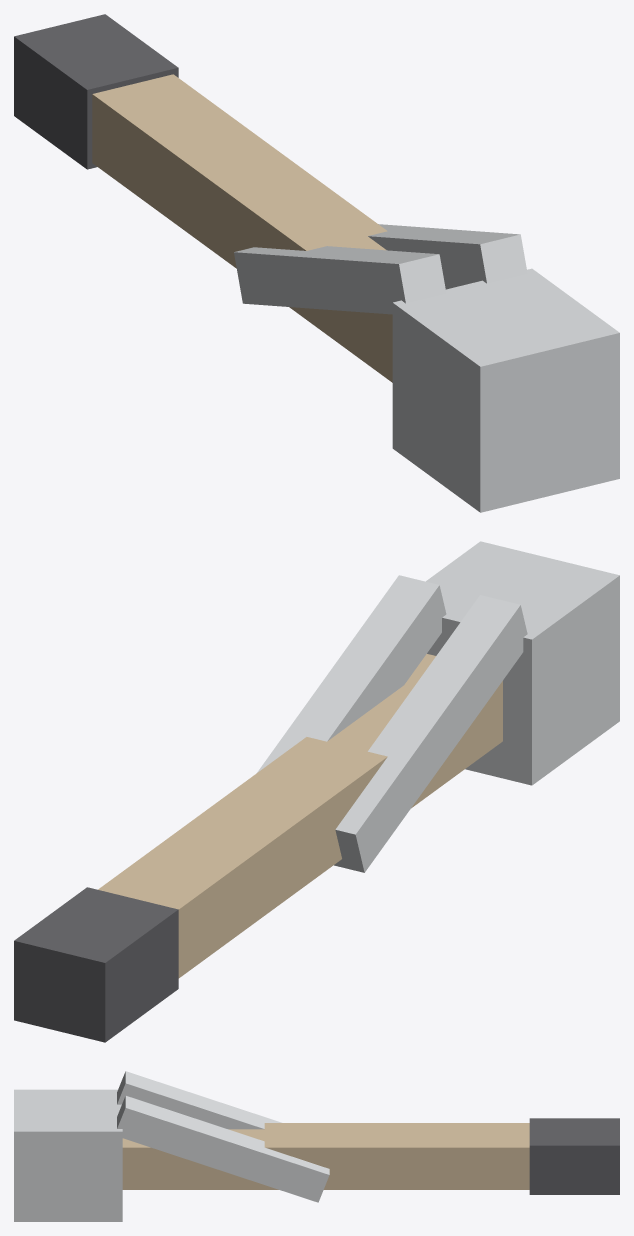
The model's file is claw-hammer.gltf.
3 views of the same model, one above another, from view 1: azimuth 30°, elevation 25°; view 2: azimuth 150°, elevation 25°; view 3: azimuth 270°, elevation 25° (orthographic). The views are drawn at different scales.
Visible parts, largest first — view 1: HeadPoll, Handle, GripEnd, ClawProngA, ClawProngB; view 2: Handle, HeadPoll, GripEnd, ClawProngA, ClawProngB; view 3: Handle, HeadPoll, ClawProngB, GripEnd, ClawProngA.
Part boxes in pixels (box(x1,y1,x2,y2)): HeadPoll: box(392, 268, 619, 512); Handle: box(92, 74, 392, 382); GripEnd: box(14, 14, 178, 169); ClawProngA: box(234, 246, 446, 314); ClawProngB: box(368, 224, 527, 289); Handle: box(98, 654, 502, 978); HeadPoll: box(426, 541, 619, 785); GripEnd: box(14, 887, 178, 1042); ClawProngA: box(334, 595, 527, 872); ClawProngB: box(256, 575, 446, 773); Handle: box(122, 1123, 529, 1189); HeadPoll: box(14, 1089, 122, 1221); ClawProngB: box(117, 1095, 329, 1202); GripEnd: box(529, 1118, 619, 1194); ClawProngA: box(117, 1071, 281, 1129).
Bounding box in the file's own units: 0.00344 × 0.00425 × 0.0209.
